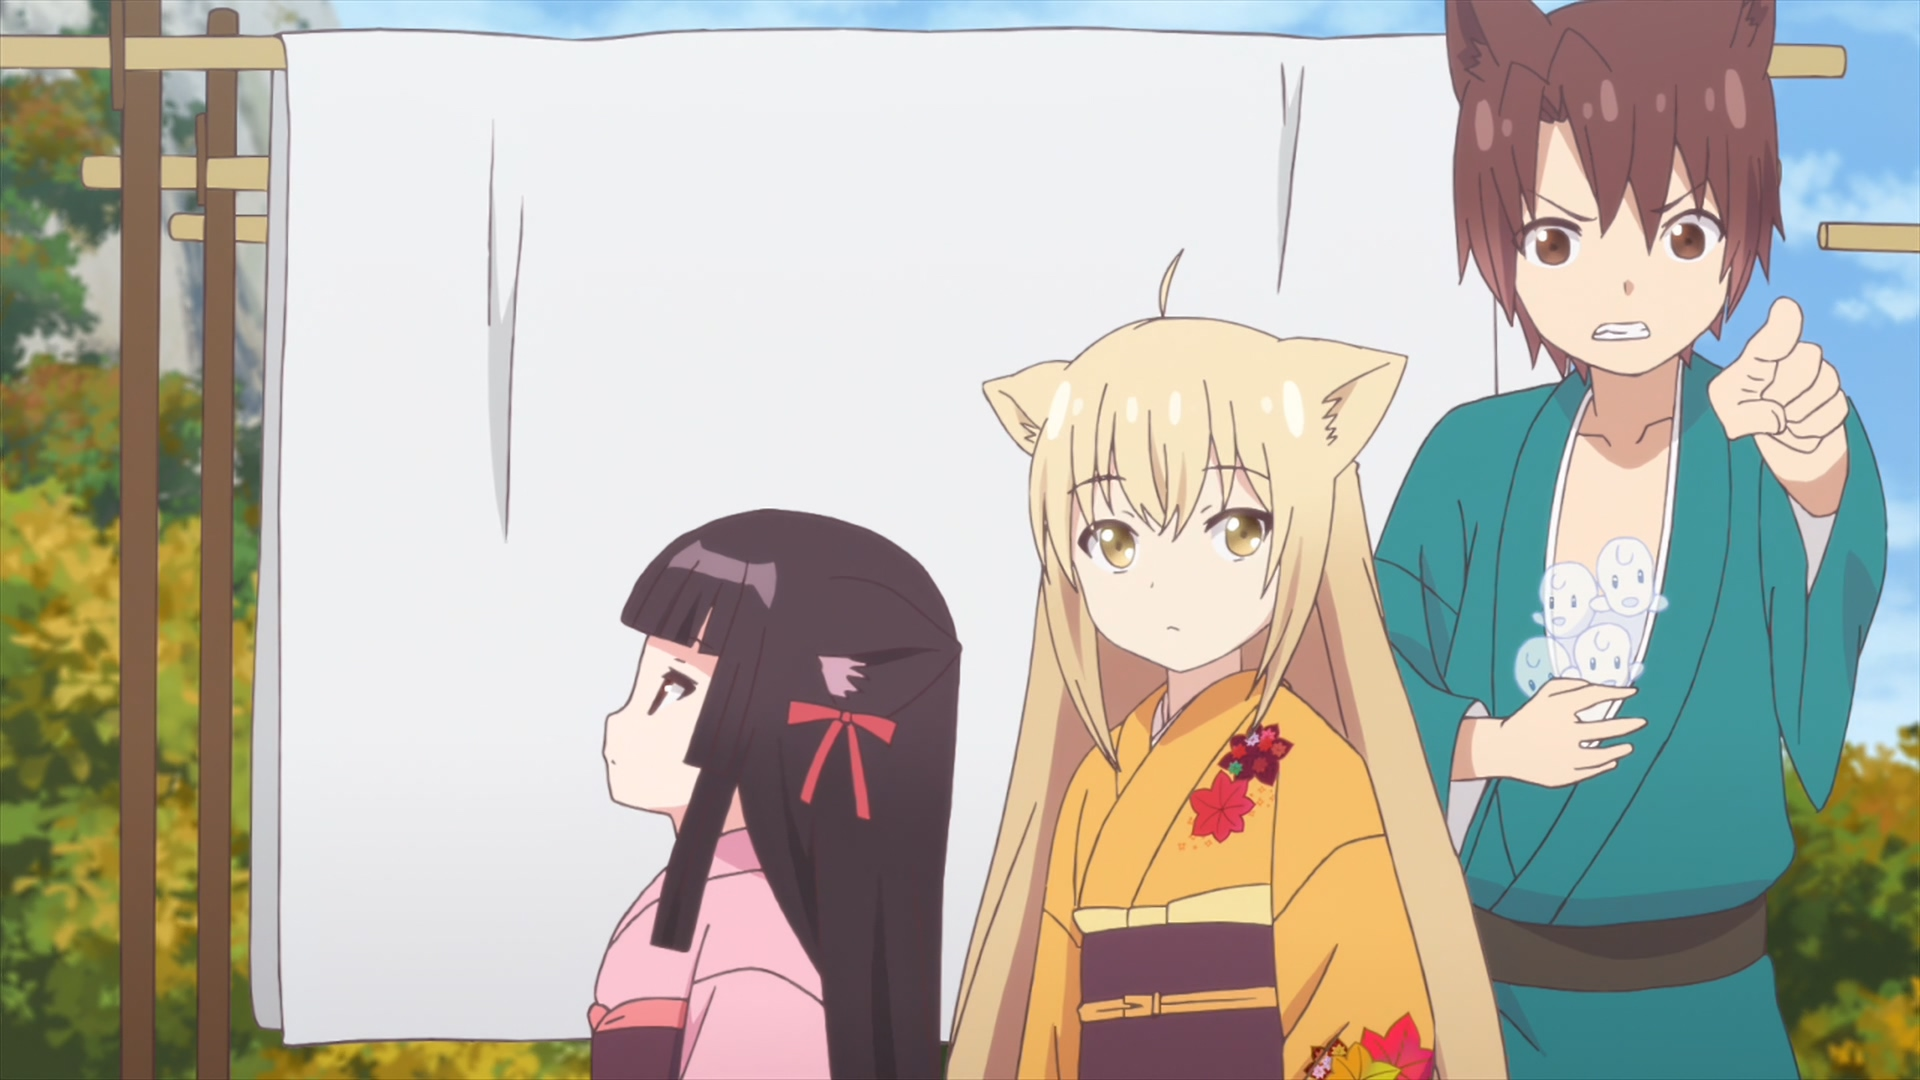枣: (1375, 1, 1890, 1080)
柚: (945, 249, 1507, 1080)
樱: (587, 509, 963, 1080)
